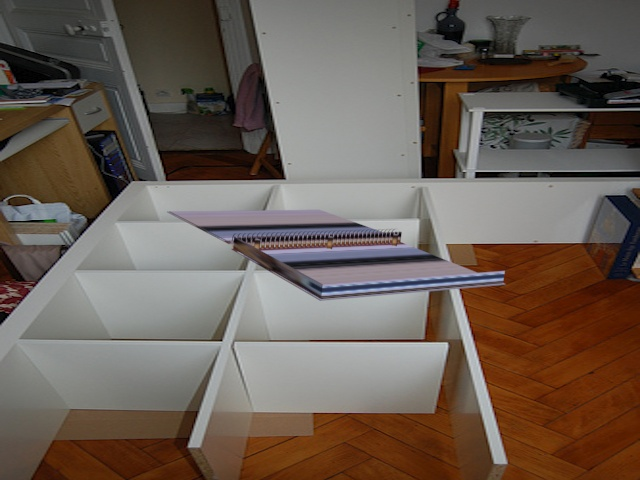paper_notebook: (161, 208, 513, 305)
